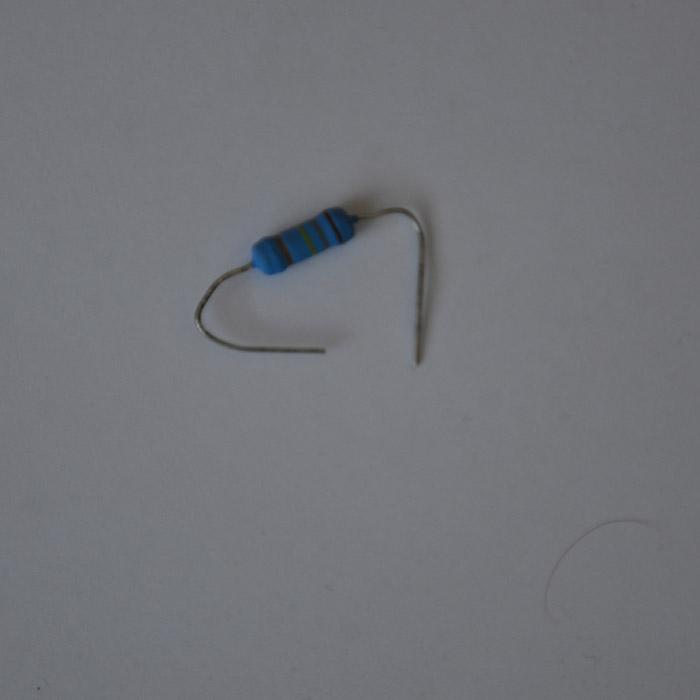resistor: (250, 206, 358, 276)
